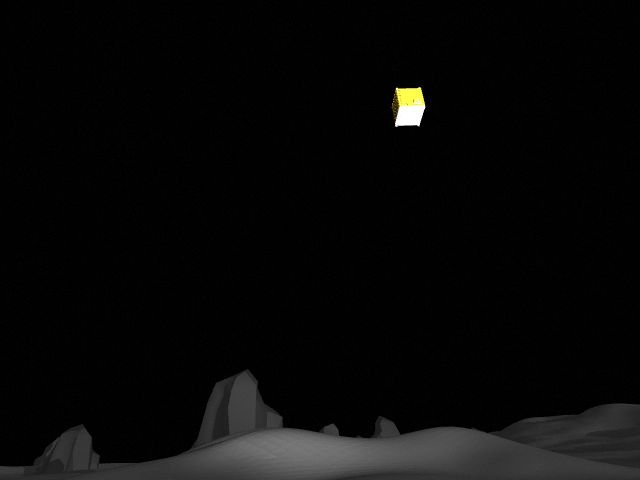cubesat: (388, 83, 427, 131)
